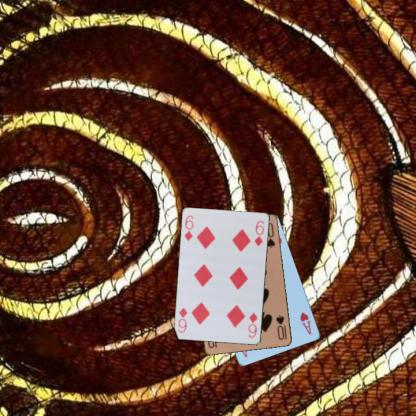10s: (274, 312, 288, 342)
6d: (246, 310, 259, 339), (182, 213, 195, 242)
Ah: (298, 310, 312, 336)
